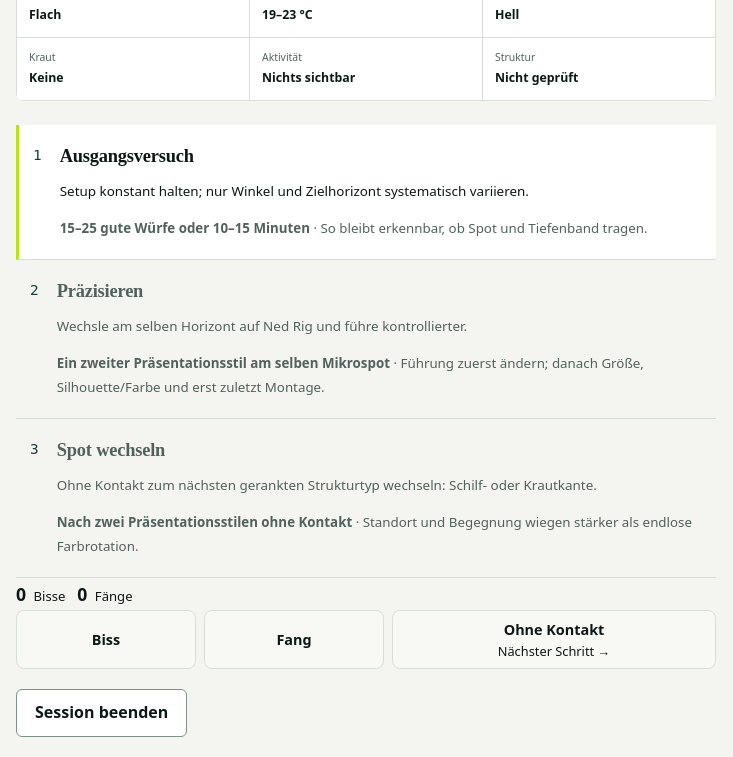
Scenario: Sessionansicht › macht eine manuell abgeschlossene Session schreibgeschützt
(page scrolled)
Click the button "Session beenden" at (102, 713), box left=16, top=689, right=187, bottom=737
(page scrolled)
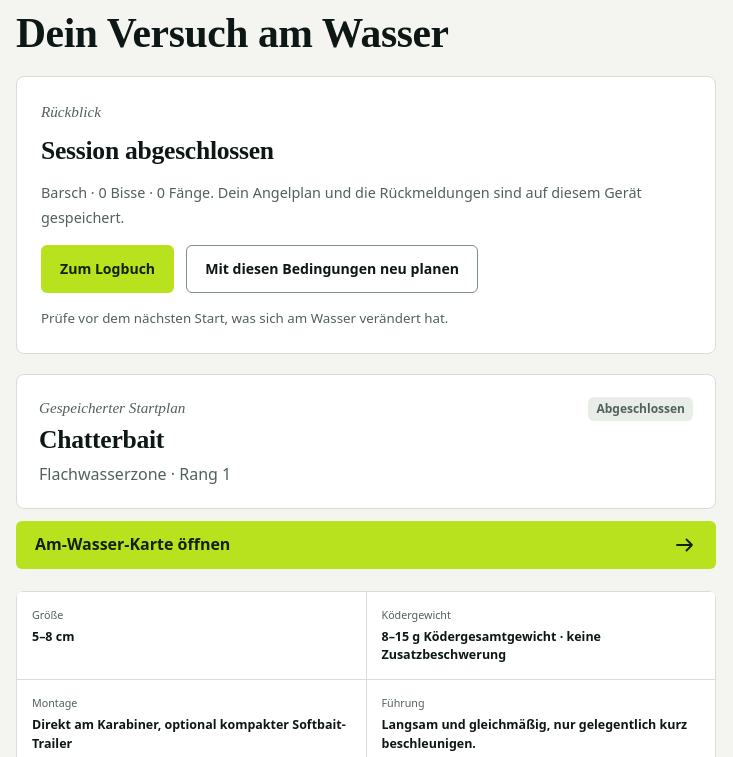
Expected: the text "Abgeschlossen" is shown, left=588, top=397, right=693, bottom=421
